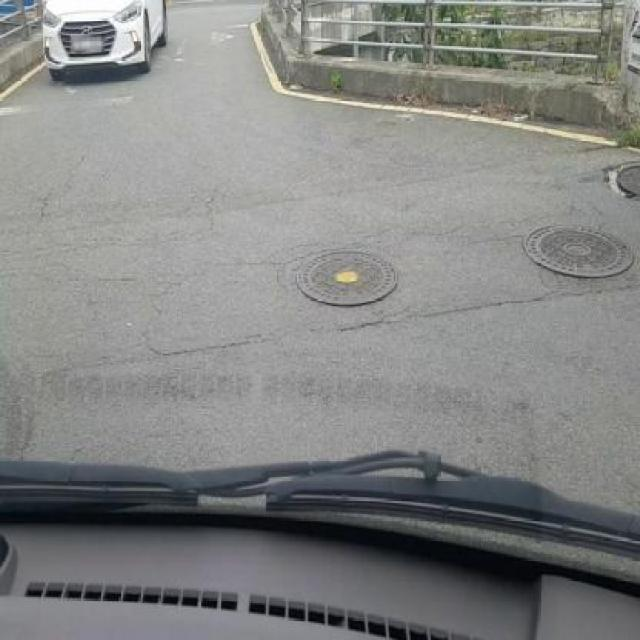Manhole: (523, 218, 640, 284), (292, 248, 399, 309), (600, 155, 640, 211)
